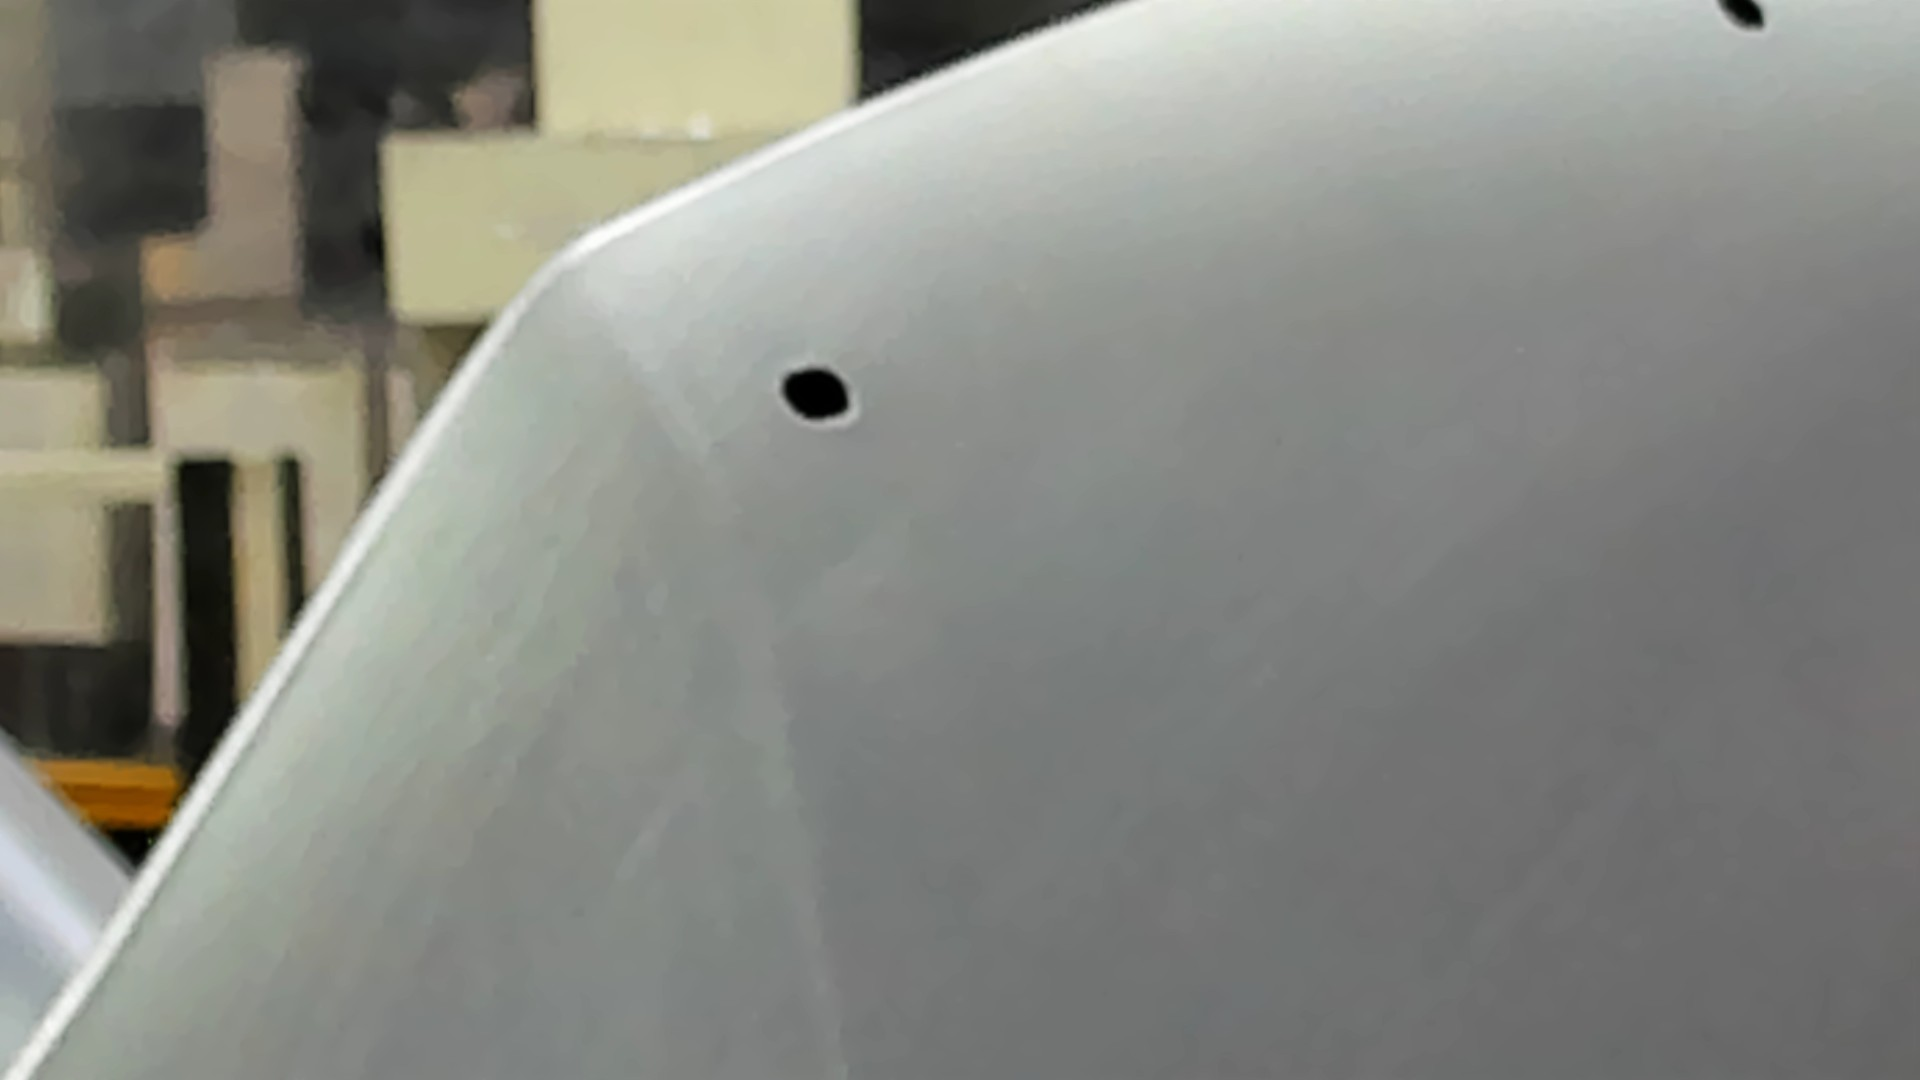amorfo: (770, 356, 857, 435), (1710, 1, 1771, 37)
